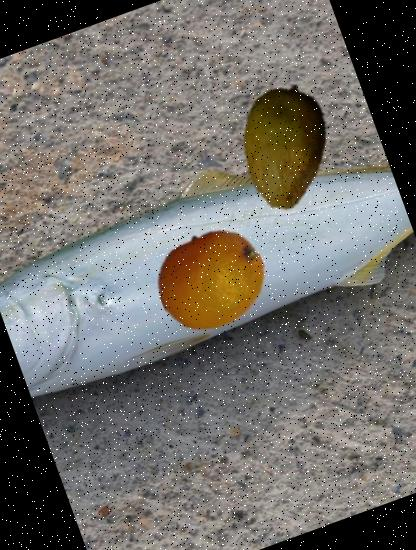Lemon: (142, 210, 282, 350)
Papaya: (202, 64, 366, 228)
